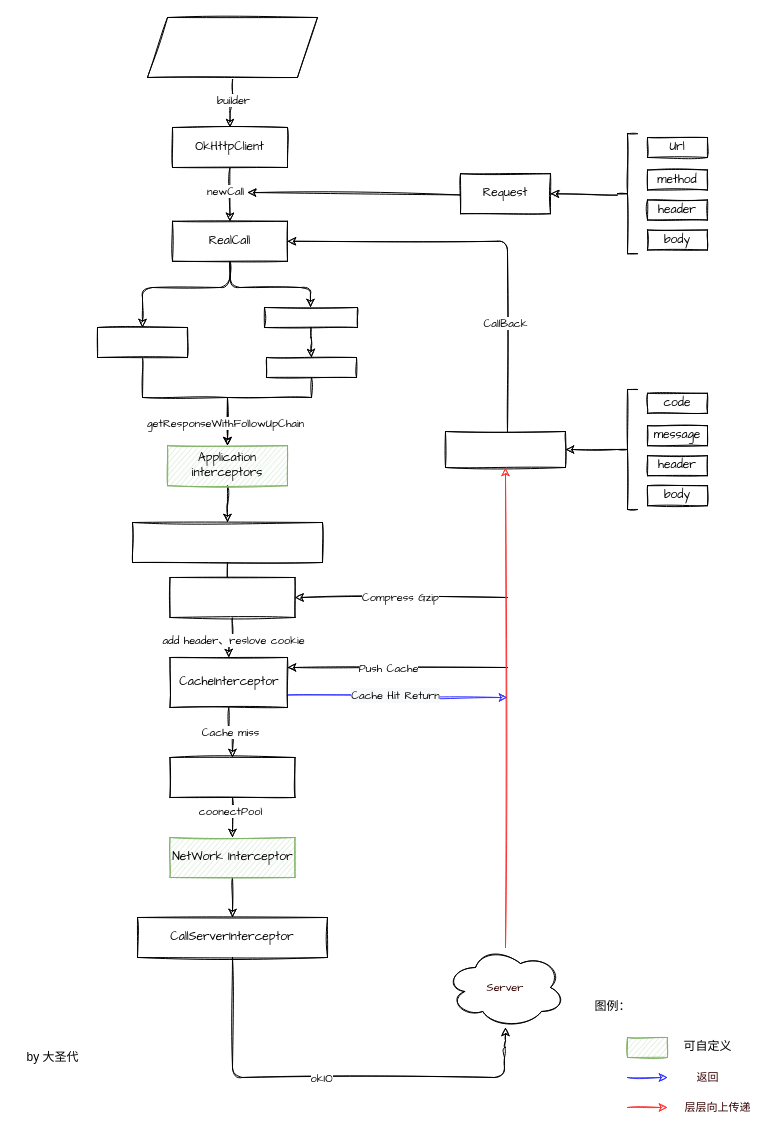
Some shapes in this 774 by 1135 pixel diagram are drawn without their labels. Here are the shapes that lost their labels. From the top down, the box of each, then its label:
(146, 16, 318, 78): OkHttpClient.Builder
(264, 306, 358, 328): enqueue
(96, 326, 188, 358): execute
(266, 356, 356, 378): Dispather
(444, 430, 566, 468): Response
(132, 522, 322, 562): RetryAndFollowUpInterceptor
(169, 576, 295, 618): BridgeInterceptor
(169, 756, 295, 798): ConnectInterceptor
